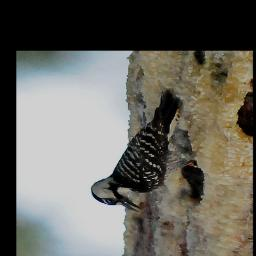Woodpecker: (88, 89, 197, 212)
